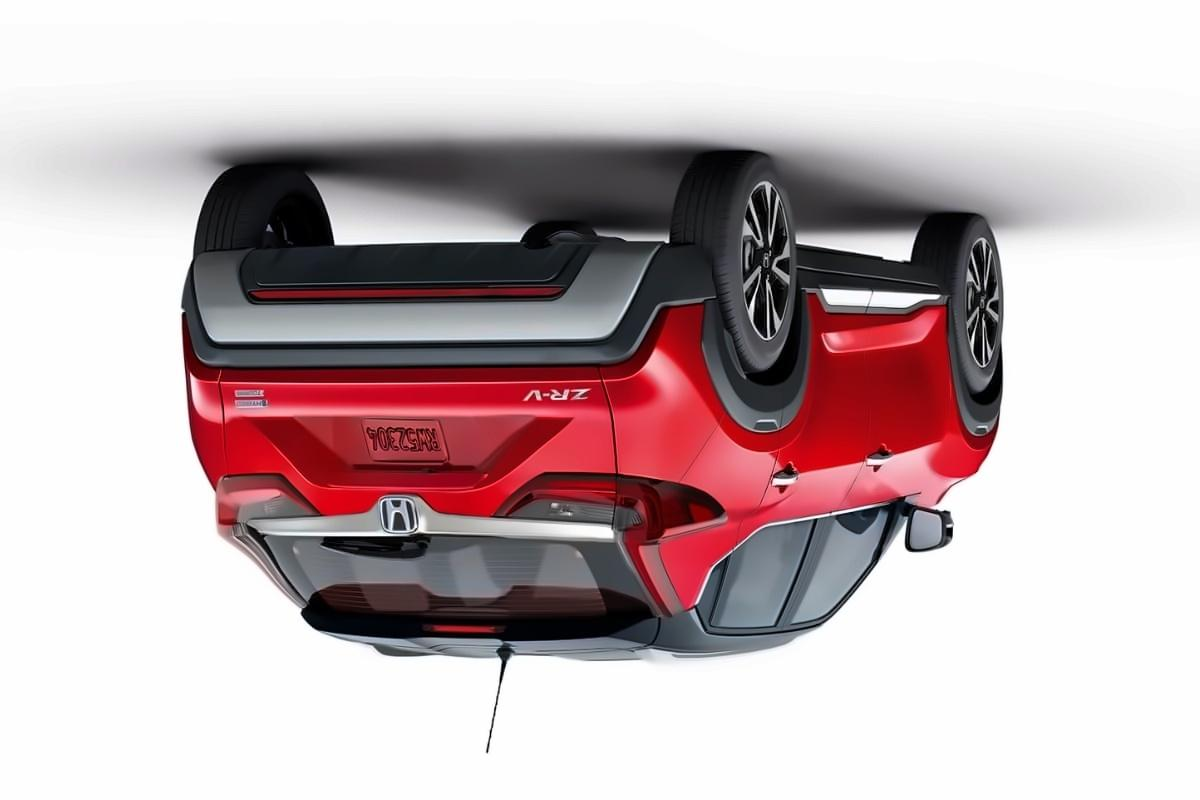Car boot: (205, 349, 660, 667)
Fender - -F-L-: (897, 278, 997, 532)
Fender - -R-L-: (585, 280, 783, 613)
Passenger-s door - -F-L-: (770, 260, 945, 667)
Passenger-s door - -R-L-: (701, 245, 880, 663)
Rear bumper: (156, 236, 716, 377)
Rear light - -L-: (485, 469, 731, 622)
Rear light - -R-: (210, 476, 321, 605)
Side bumper - -L-: (789, 235, 959, 344)
Side mirror - -L-: (890, 494, 952, 557)
